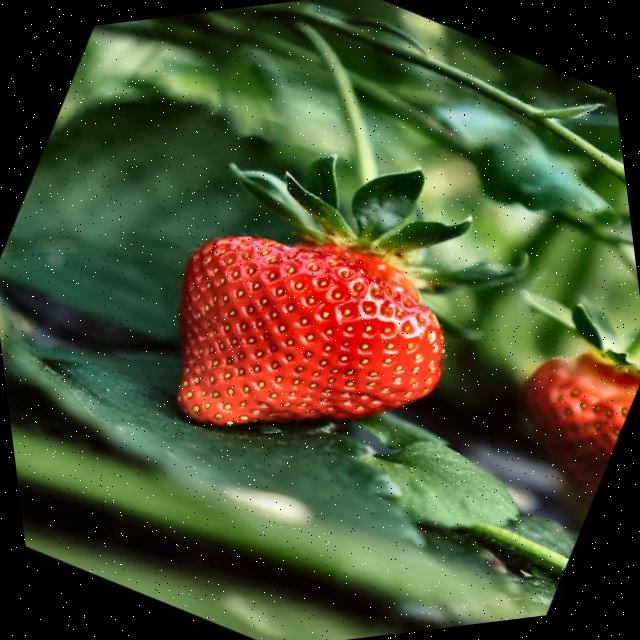strawberry: (177, 236, 444, 425), (525, 352, 640, 484)
